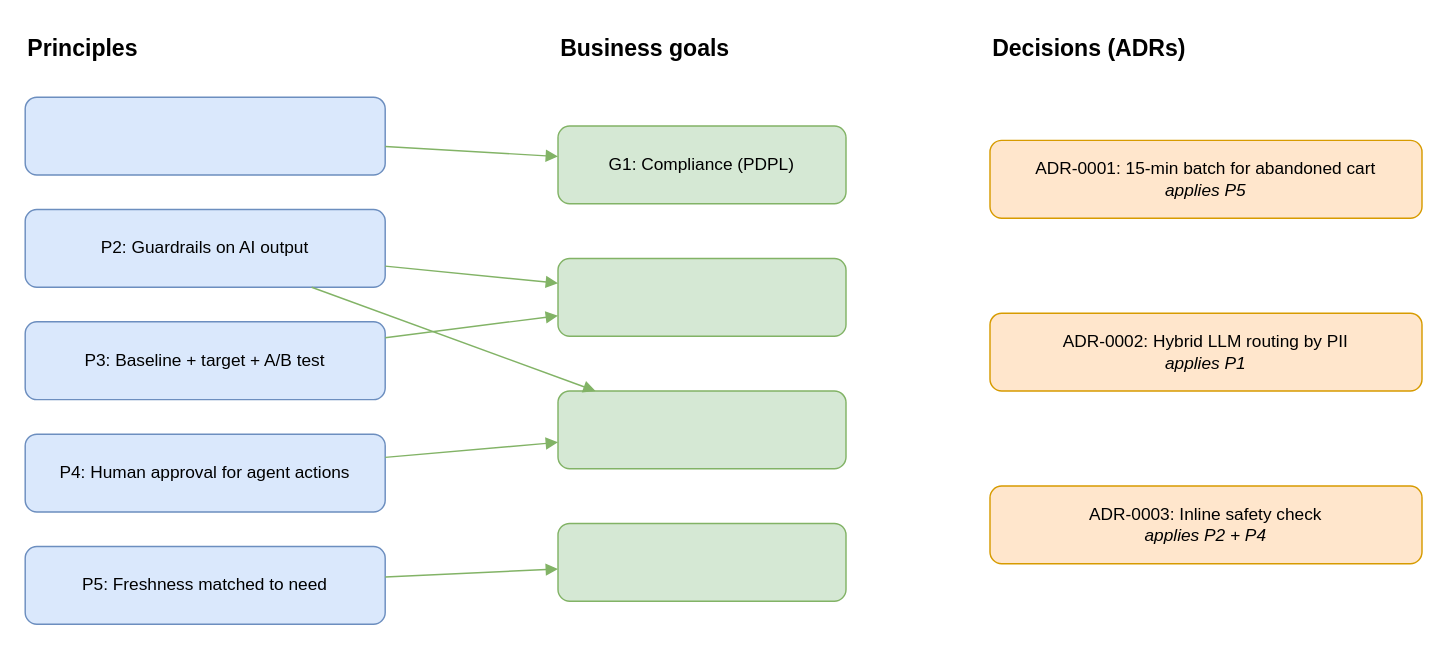
Some shapes in this 1447 by 649 pixel diagram are drawn without their labels. The shapes that lost their labels are listed below. From the top down, each one's centre as x and y in pixels, then its label:
point 204,135: P1: Data stays in-country
point 701,296: G2: CSAT 60% → 80%
point 701,429: G3: Lower risk
point 701,561: G4: Lower cost
